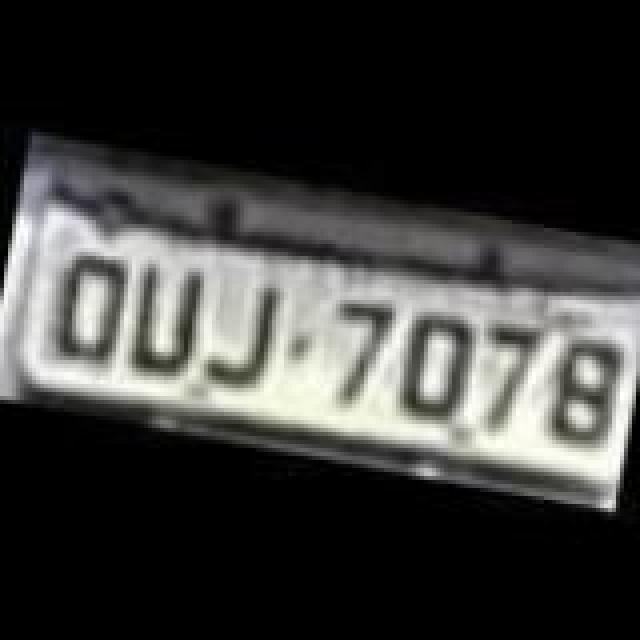7: (460, 322, 544, 442), (320, 296, 400, 412)
8: (542, 330, 630, 454)
J: (194, 274, 286, 398)
O: (40, 246, 136, 370), (394, 308, 478, 420)
U: (114, 258, 206, 378)
